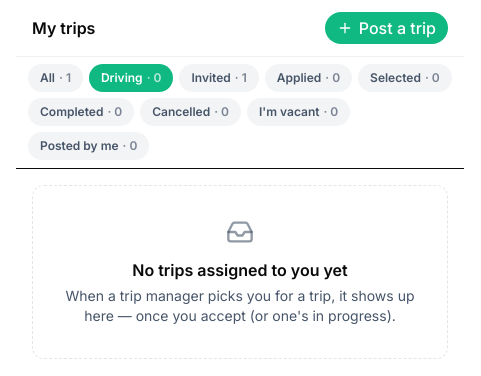
Test: DriverActivityPage › the Invited tab lists trips the driver was invited to
Click the button "Invited · 1" at [219, 78], box x1=179 y1=64 x2=259 y2=92
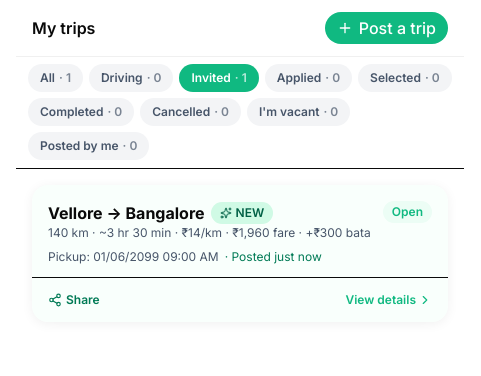
Check: the text "Vellore → Bangalore" is shown, box x1=48 y1=201 x2=204 y2=225
